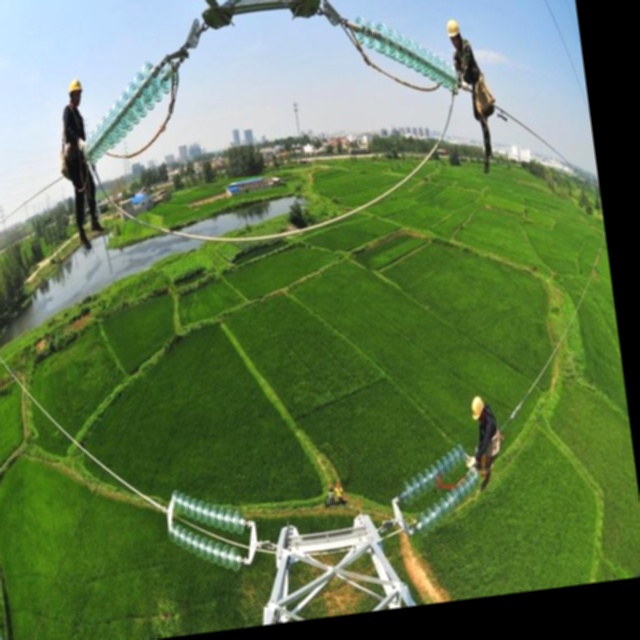Con_Casco: (67, 77, 86, 110), (470, 395, 488, 428), (445, 18, 463, 48)
